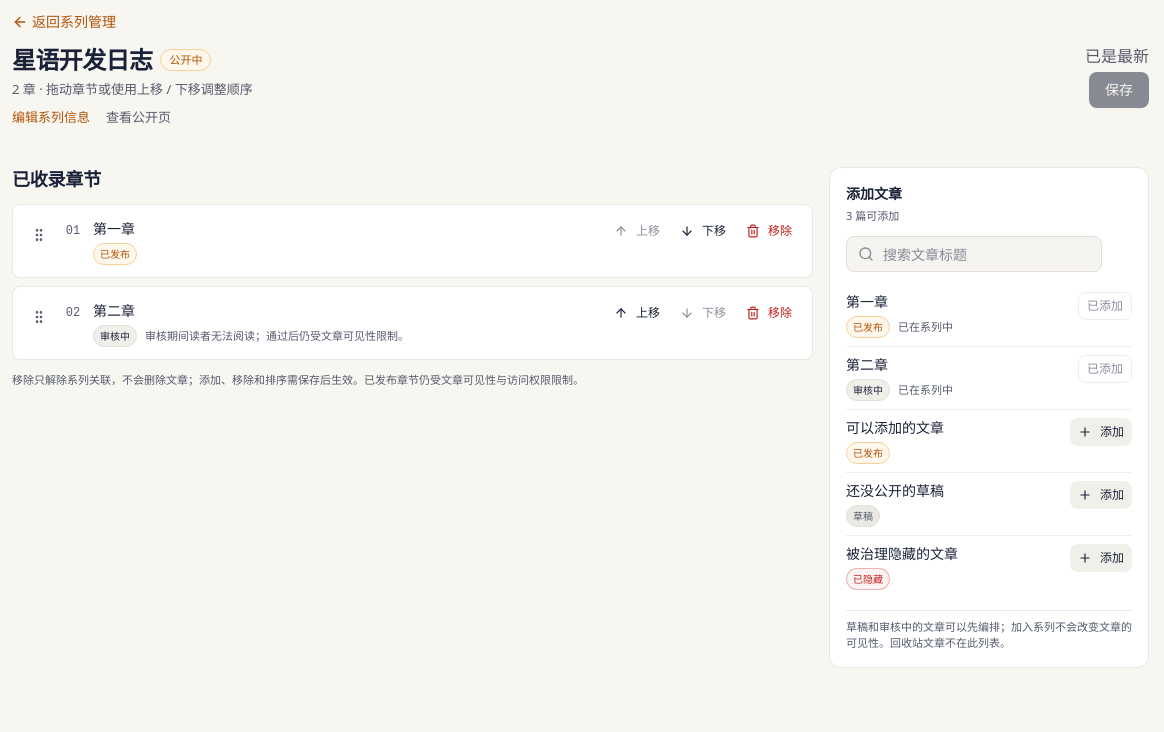
it: SeriesArticlesPage › keeps edits made after confirming a server reload
Click the button with aria-label "下移：第一章". click: (703, 231)
box: 672,217 -> 734,245
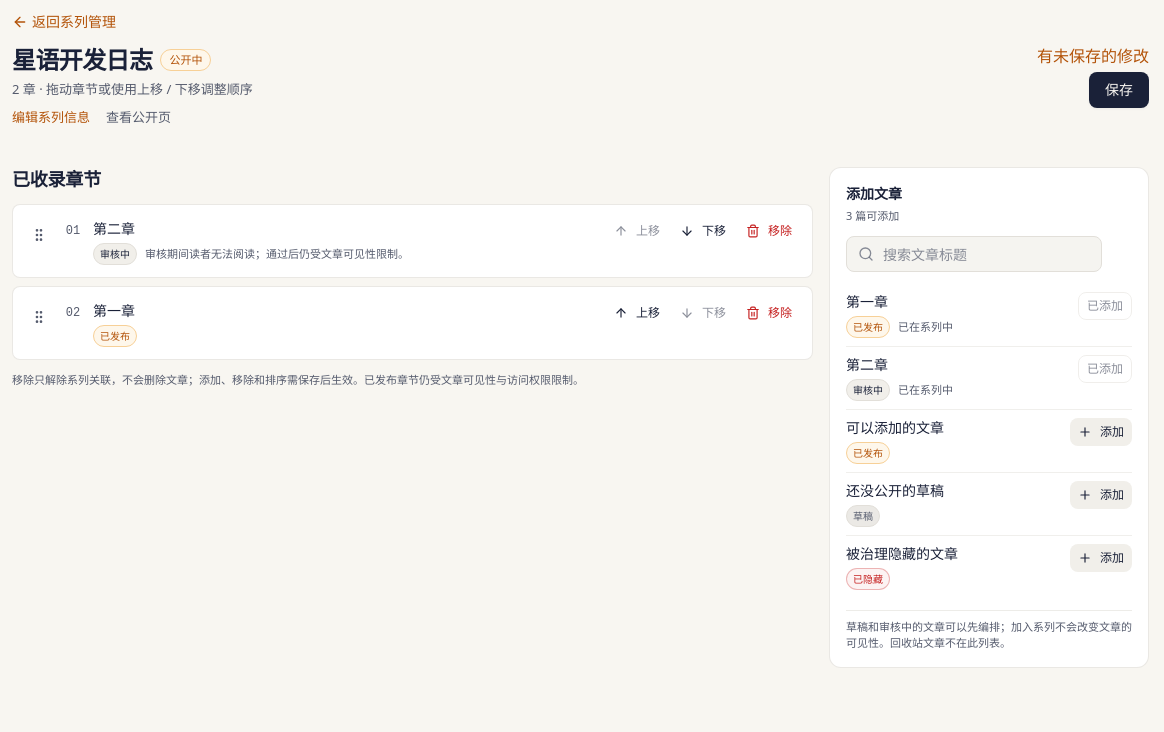
Click the button "保存". click: (1119, 90)
box: 1089,72 -> 1149,108
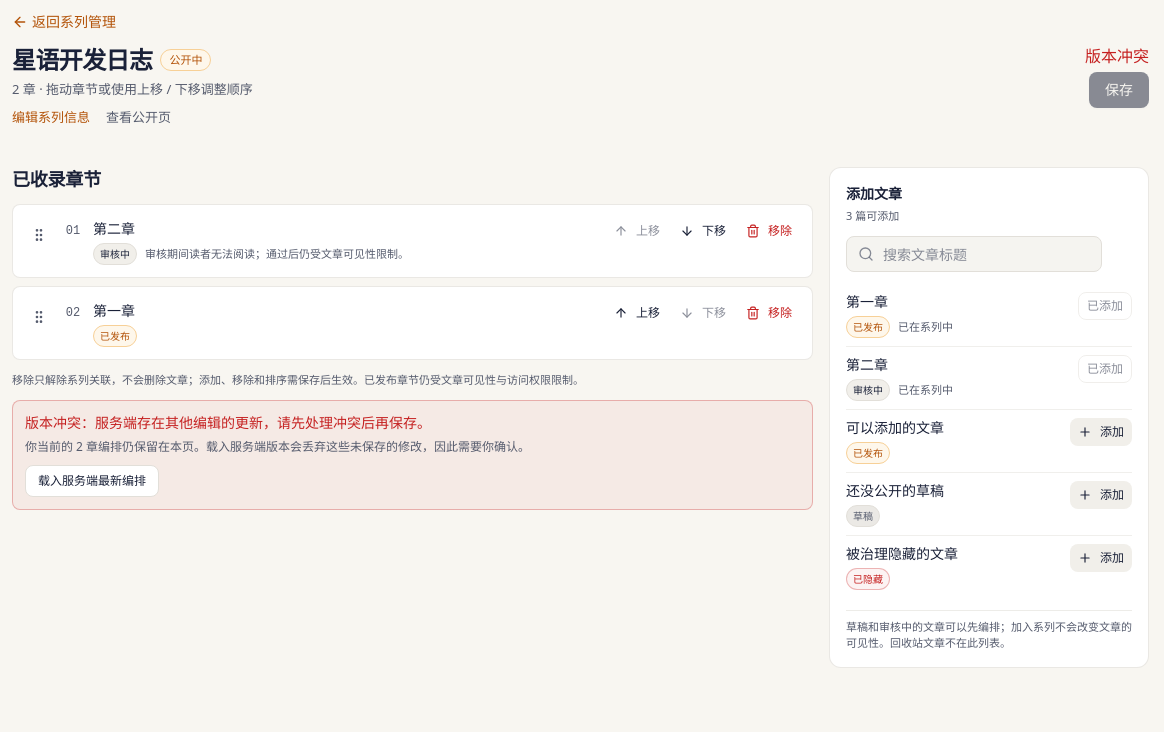
Expected: the text "版本冲突：服务端存在其他编辑的更新，请先处理冲突后再保存。" is shown, 25,413 -> 431,432
Click the button "载入服务端最新编排". click: (92, 481)
box: 25,465 -> 159,497
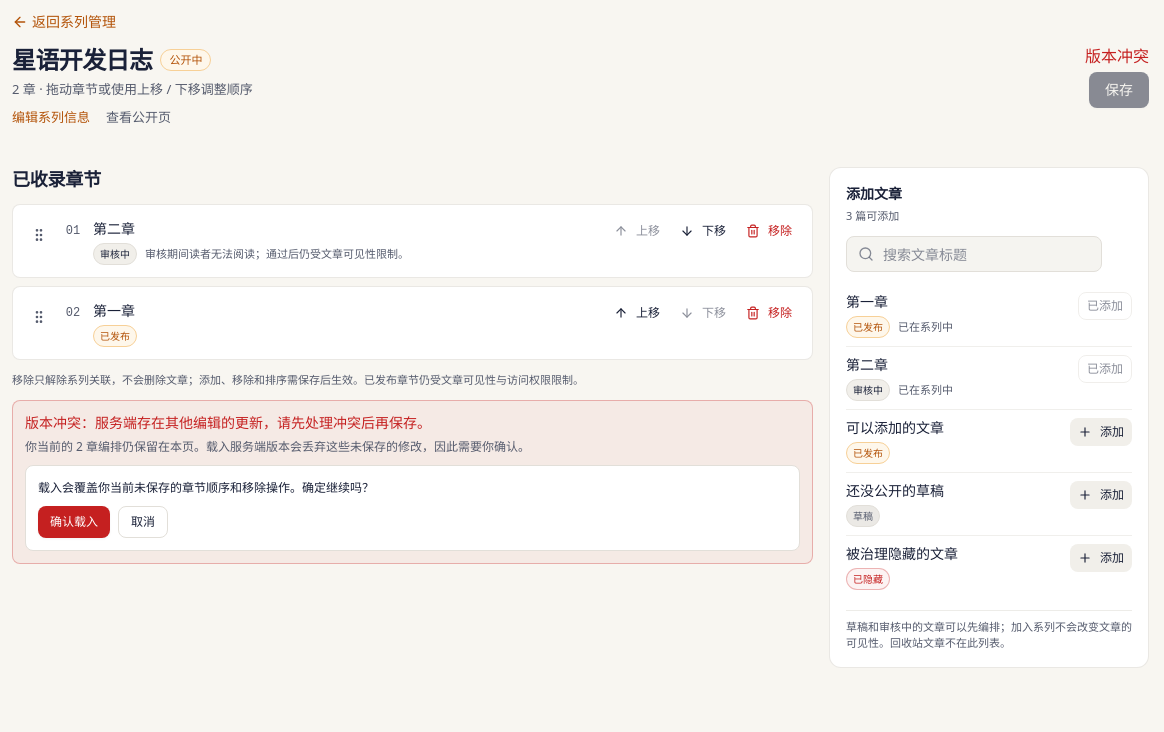
Click the button "确认载入". click: (74, 522)
box: 38,506 -> 110,538
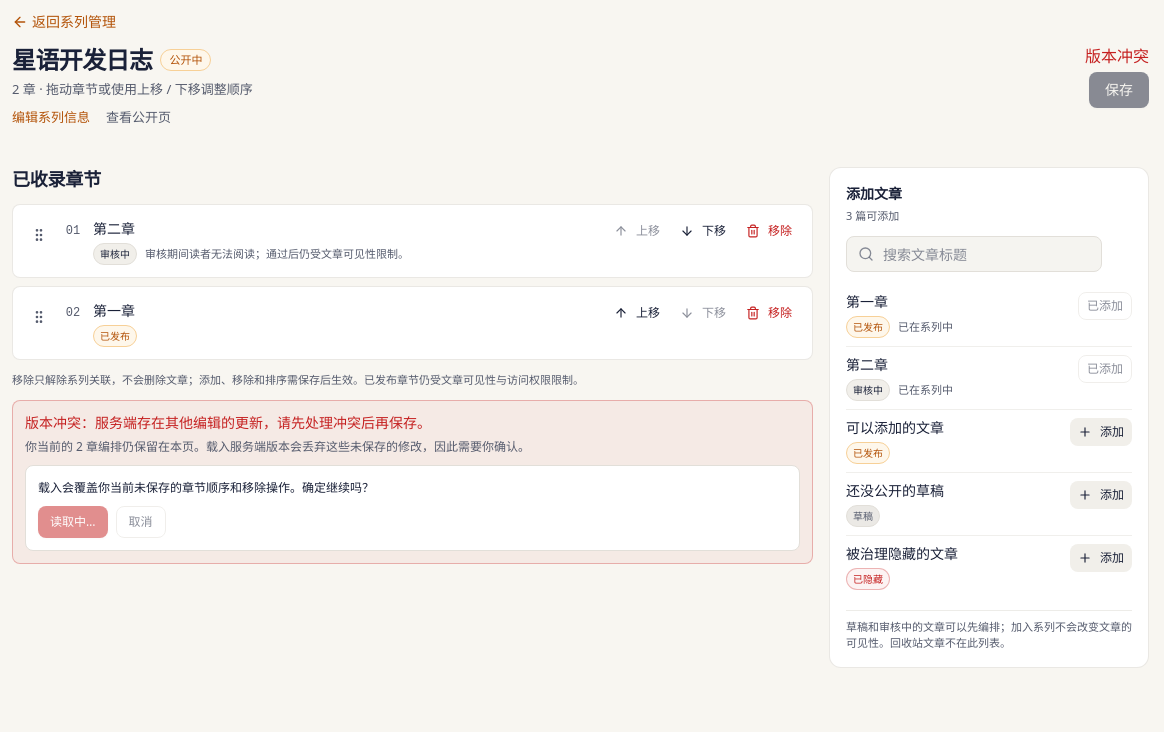
Click the button with aria-label "移除：第一章". click: (769, 313)
box: 738,299 -> 800,327
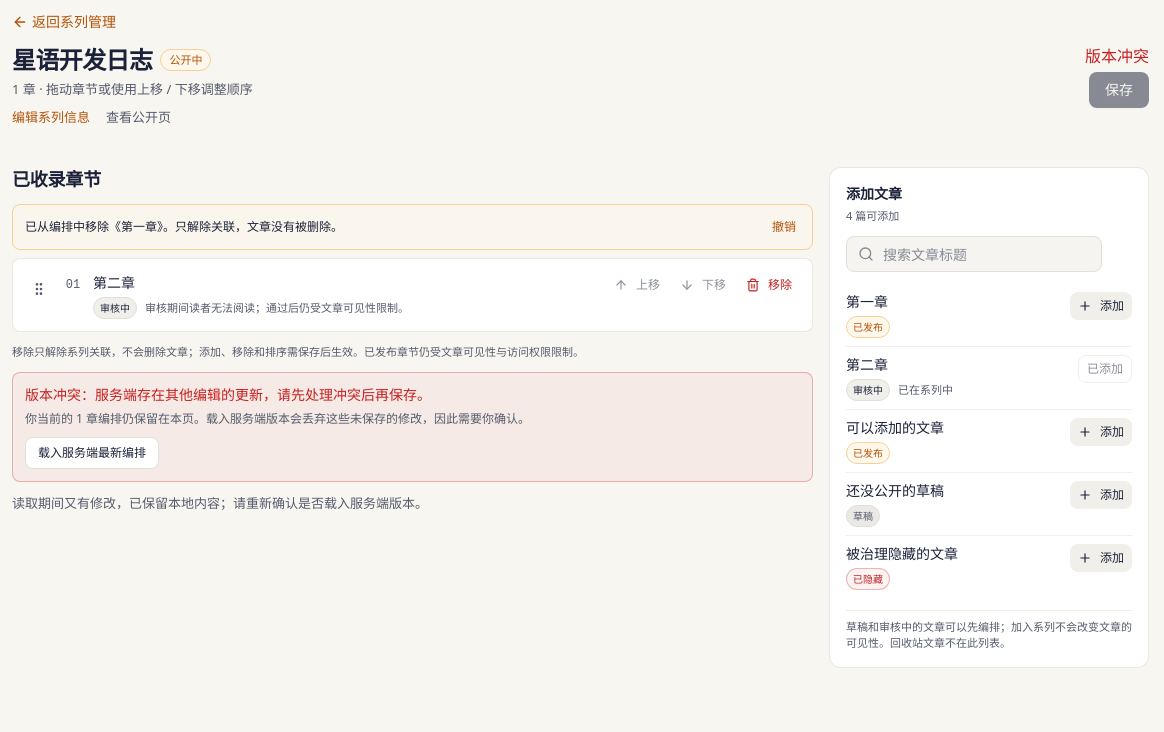
Expected: the list with test id "chapter-list" does not show "第一章", 12,258 -> 813,332
Expected: the text "读取期间又有修改，已保留本地内容；请重新确认是否载入服务端版本。" is shown, 12,494 -> 428,512
